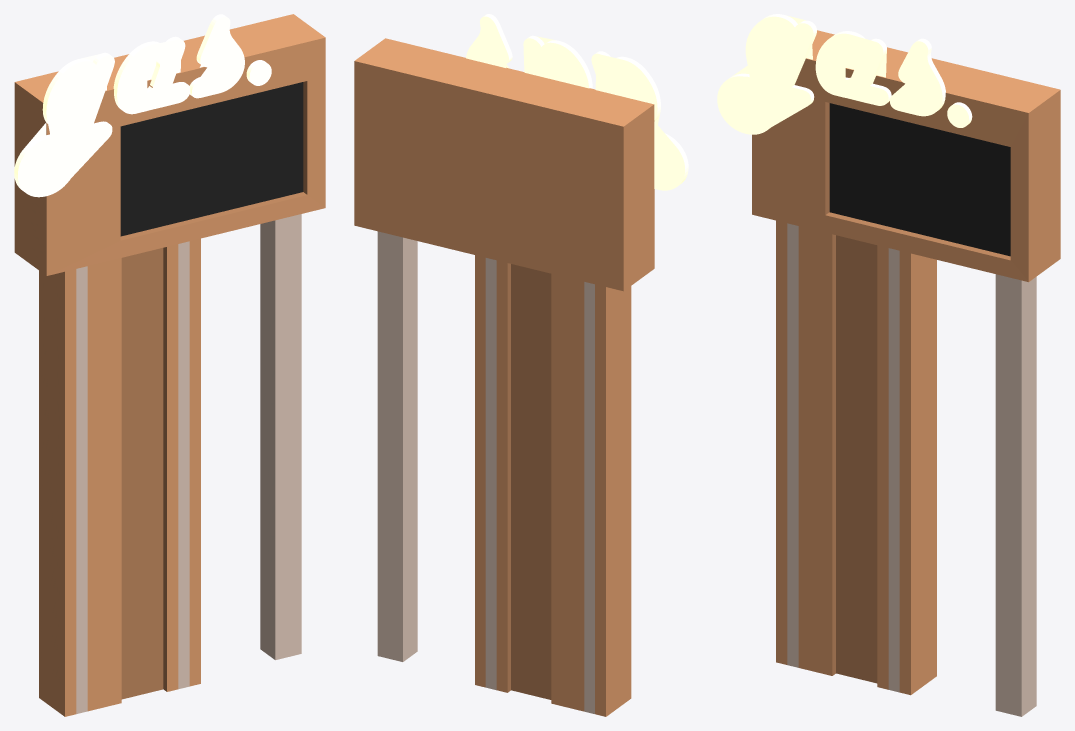
File: gas_sign.fbx
The picture shows the model from 3 angles, left to right: view 1: azimuth 30°, elevation 25°; view 2: azimuth 150°, elevation 25°; view 3: azimuth 330°, elevation 25°; orthographic projection. The views are drawn at different scales.
Visible parts, largest first — view 1: gas_sign; view 2: gas_sign; view 3: gas_sign.
Part boxes in pixels (<box>): gas_sign: <box>14,14,325,716</box>; gas_sign: <box>354,14,688,716</box>; gas_sign: <box>717,14,1060,716</box>.
Bounding box in the file's own units: 228 × 467 × 44.69.
